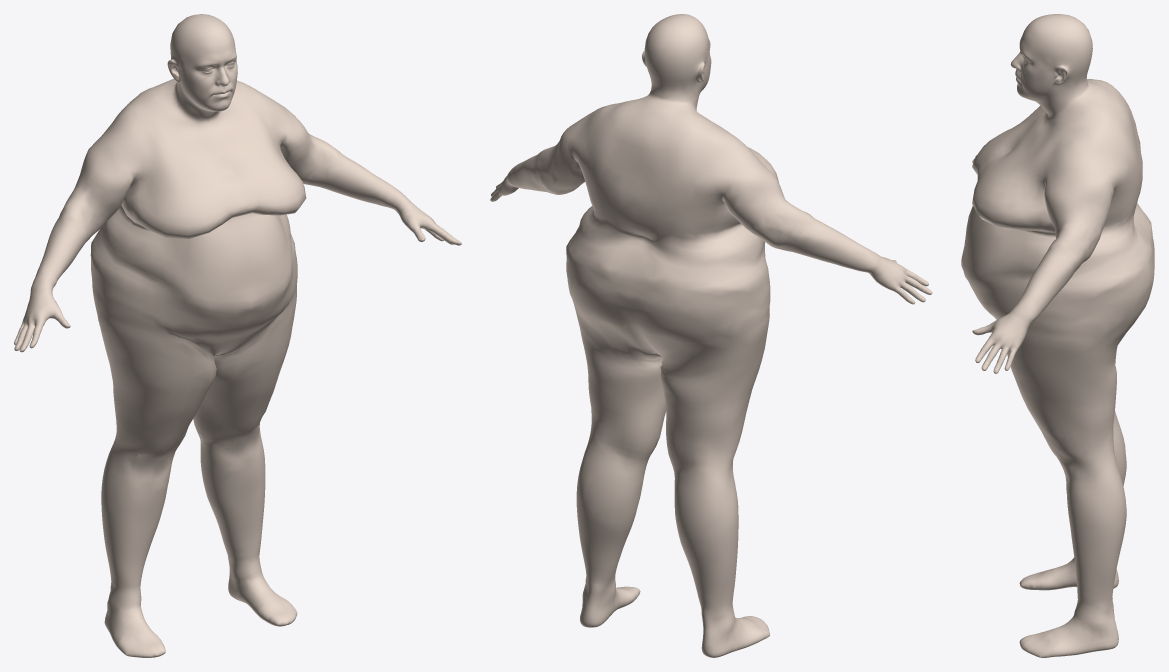
File: mhr-broad.glb
The picture shows the model from 3 angles, left to right: view 1: azimuth 30°, elevation 25°; view 2: azimuth 150°, elevation 25°; view 3: azimuth 270°, elevation 25°; orthographic projection.
Parts seen in each view (by area): view 1: mhr-broad; view 2: mhr-broad; view 3: mhr-broad.
Part boxes in pixels (x1,y1,x2,y2): mhr-broad: [14, 14, 461, 657]; mhr-broad: [490, 14, 932, 657]; mhr-broad: [961, 14, 1154, 657].
Bounding box in the file's own units: 1.32 × 1.75 × 0.5105.
